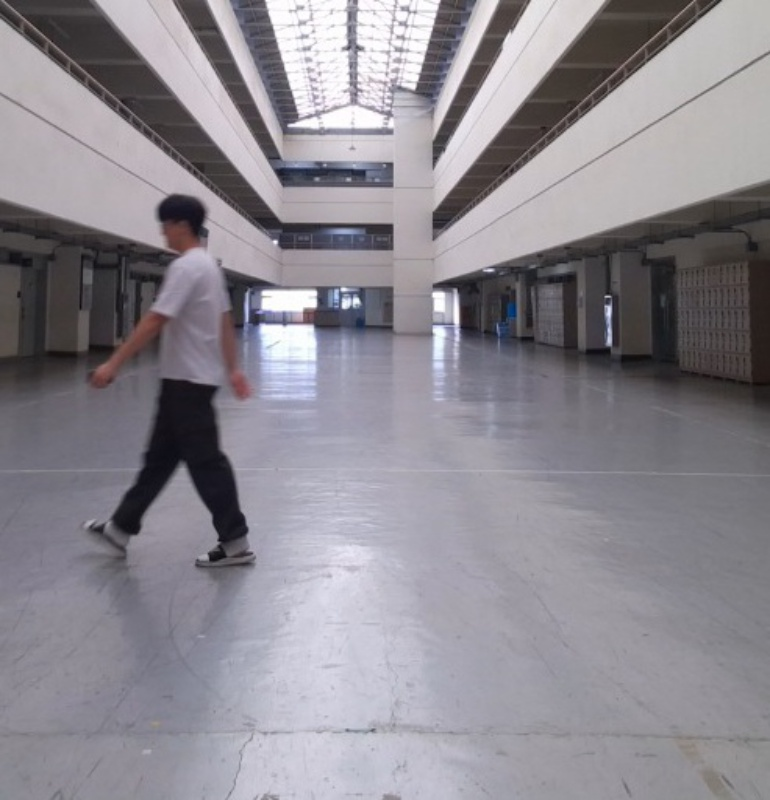person: (79, 192, 261, 569)
